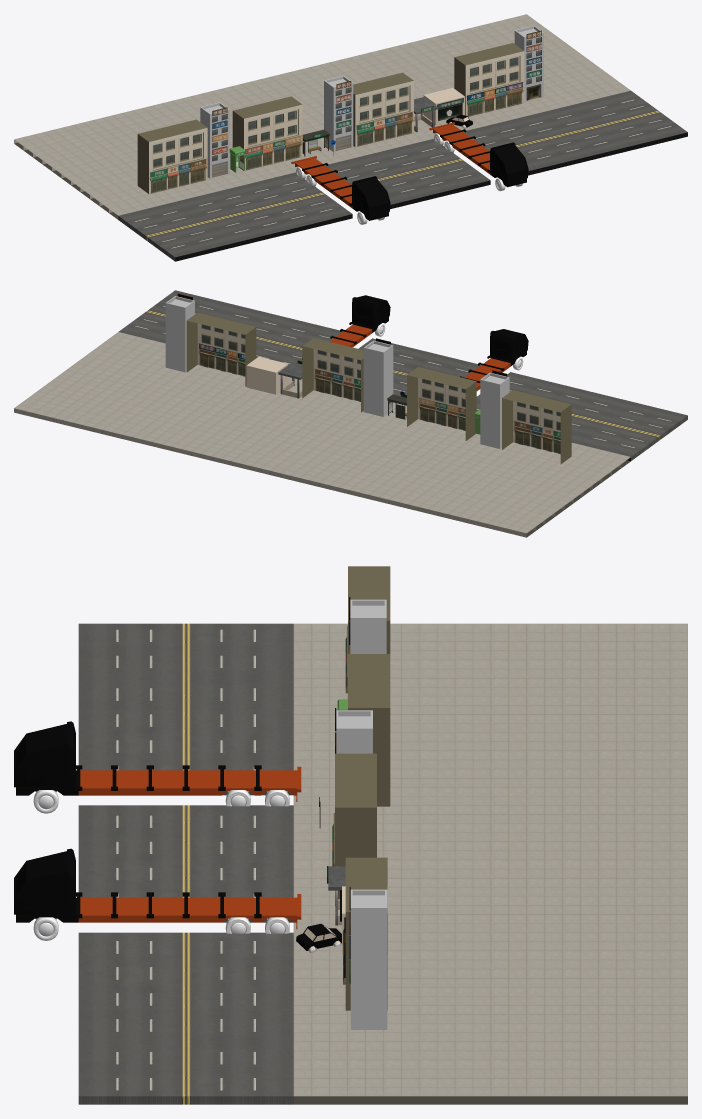
Rendered from Map.fbx.
3 views of the same model, one above another, from view 1: azimuth 30°, elevation 25°; view 2: azimuth 150°, elevation 25°; view 3: azimuth 270°, elevation 25° (orthographic). The views are drawn at different scales.
Visible parts, largest first — view 1: StreetRoad, FieldRoad, ShopLineup003, ShopLineup002, ShopLineup001, ShopLineup, AD1, Truck(Nexus), Truck(Nexus)001, ShutterBuild, ShutterBuild001, OpenBuild (+3 smaller); view 2: StreetRoad, FieldRoad, ShopLineup003, ShopLineup001, ShopLineup002, ShopLineup, ShutterBuild, ShutterBuild001, OpenBuild, Truck(Nexus), Truck(Nexus)001, CarShop (+2 smaller); view 3: StreetRoad, FieldRoad, Truck(Nexus)001, Truck(Nexus), OpenBuild, ShopLineup, ShopLineup001, ShopLineup002, ShutterBuild001, ShopLineup003, ShutterBuild, Slot007 (+10 smaller).
Boxes of the visible parts, x1,y1,x2,y2 form: StreetRoad: (14,14,630,219); FieldRoad: (118,90,687,261); ShopLineup003: (137,119,207,193); ShopLineup002: (454,43,524,116); ShopLineup001: (232,96,302,170); ShopLineup: (353,72,413,147); AD1: (167,30,541,173); Truck(Nexus): (296,163,390,224); Truck(Nexus)001: (434,129,528,191); ShutterBuild: (324,75,353,151); ShutterBuild001: (200,102,229,178); OpenBuild: (514,25,543,101); StreetRoad: (14,332,630,537); FieldRoad: (118,290,687,461); ShopLineup003: (502,390,571,464); ShopLineup001: (407,367,476,440); ShopLineup002: (186,312,256,386); ShopLineup: (302,338,363,412); ShutterBuild: (363,340,393,416); ShutterBuild001: (480,372,509,448); OpenBuild: (165,296,194,372); Truck(Nexus): (460,329,528,382); Truck(Nexus)001: (302,295,390,359); CarShop: (246,356,288,394); StreetRoad: (293,623,687,1104); FieldRoad: (78,623,293,1104); Truck(Nexus)001: (14,848,289,940); Truck(Nexus): (14,721,289,813); OpenBuild: (350,889,387,1029); ShopLineup: (332,753,376,905); ShopLineup001: (348,654,390,806); ShopLineup002: (343,857,387,1010); ShutterBuild001: (350,599,386,653); ShopLineup003: (345,566,390,693); ShutterBuild: (336,710,372,753); Slot007: (258,894,301,929).
Bounding box in the file's own units: 3120 × 462 × 1880.
